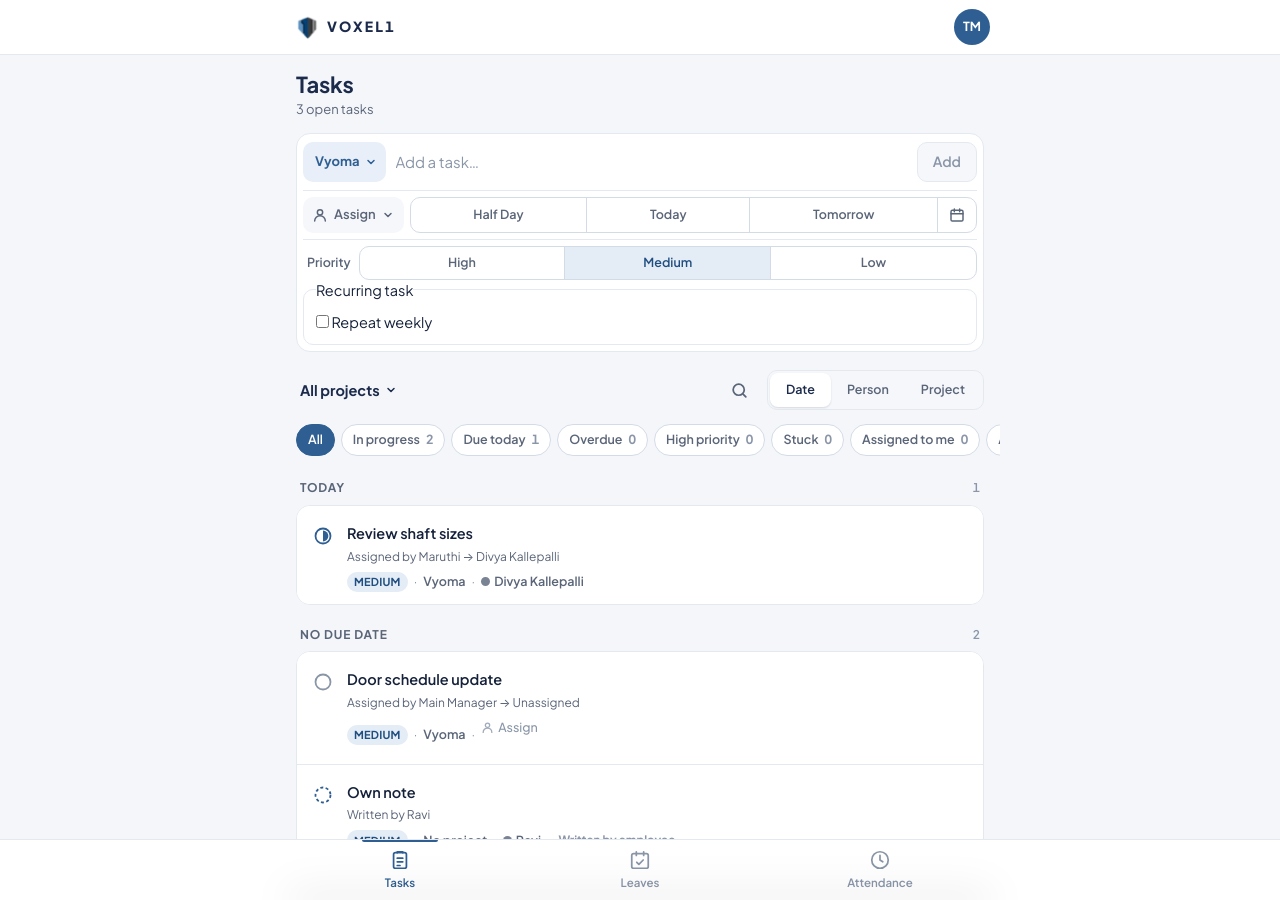
Scenario: manager app › finds shared tasks by the assigner name
Click the button named "Search tasks" at (739, 390), box [717,368,761,412]
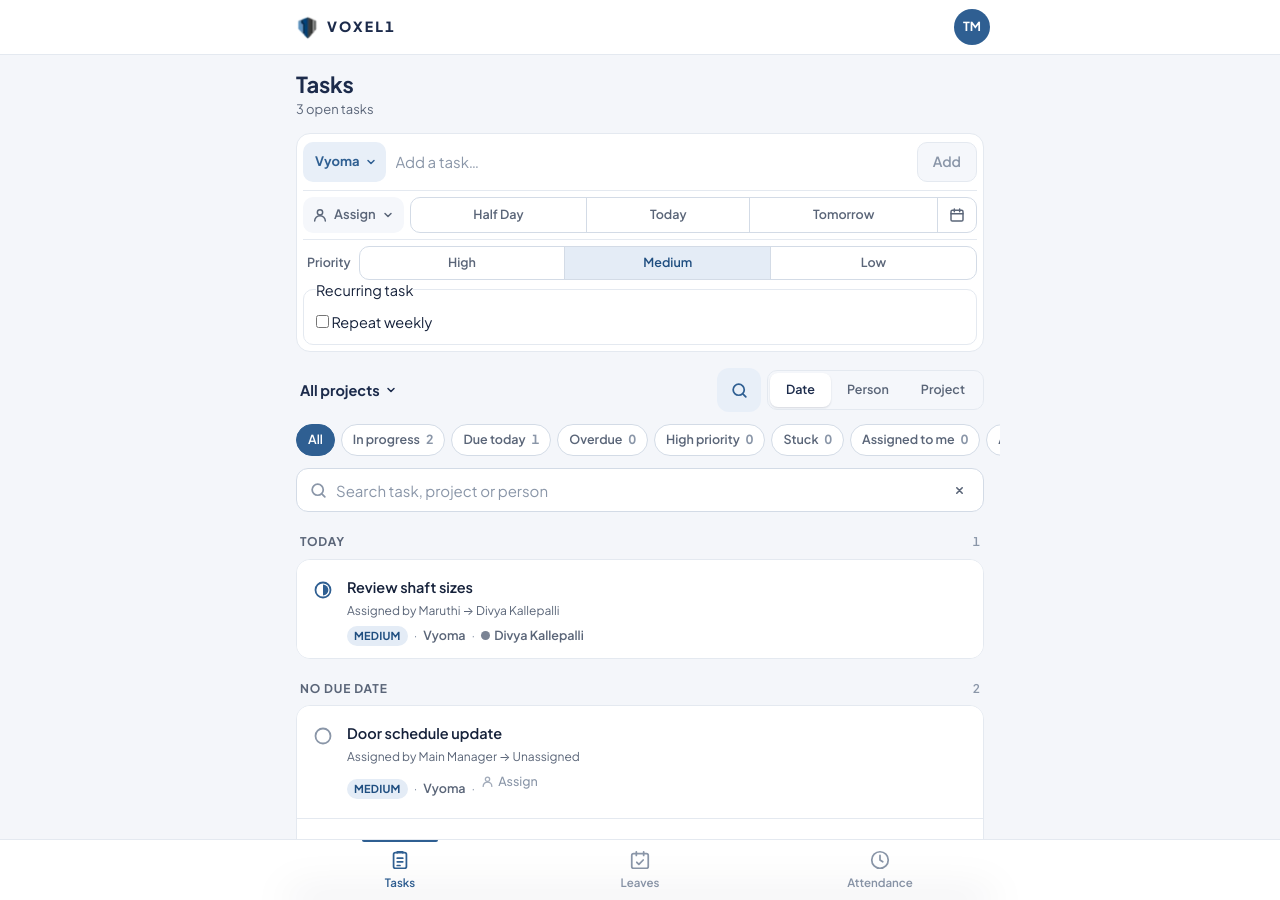
Type "Maruthi" into the search field named "Search tasks" at (634, 490), box [336,469,933,511]
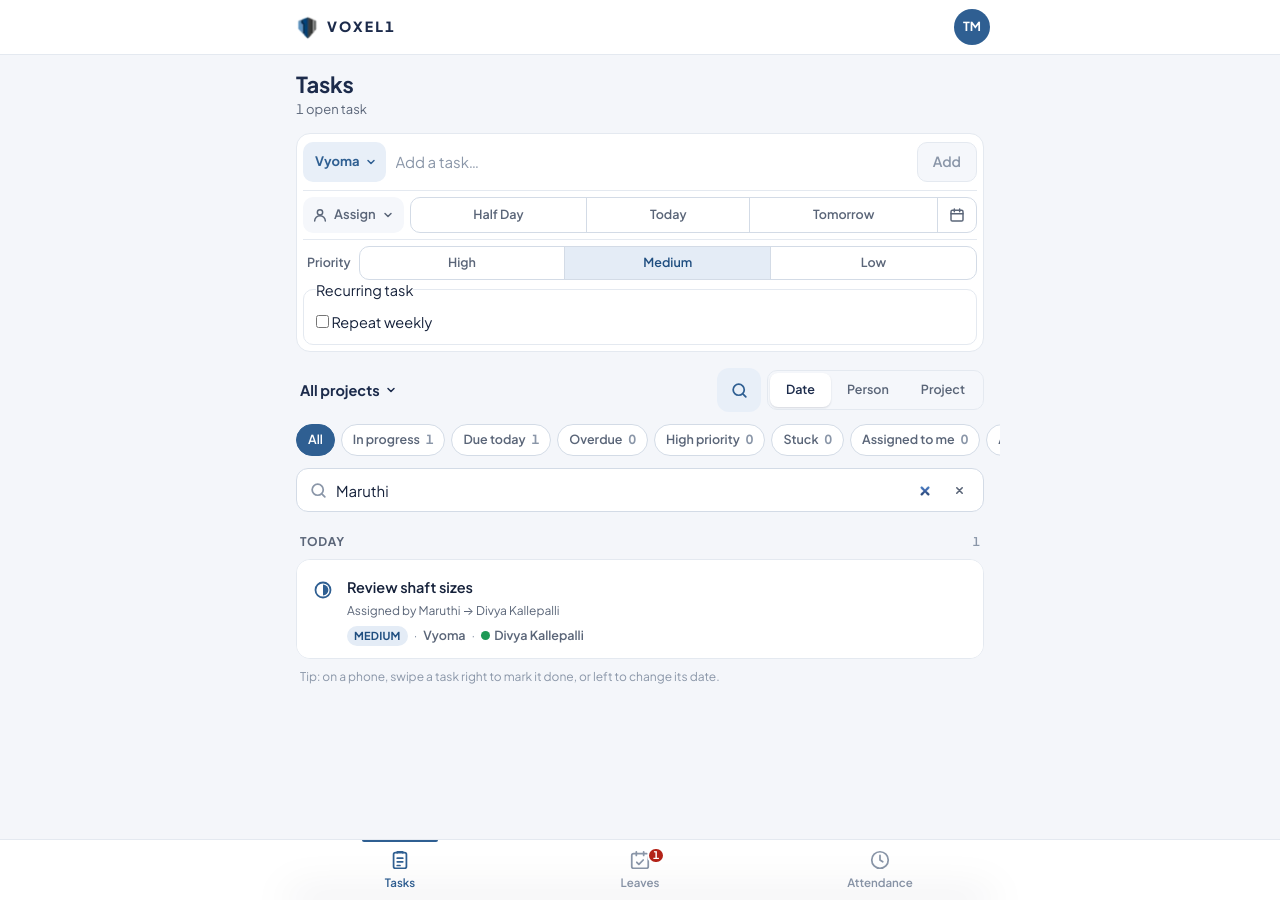
Expected: the button "Review shaft sizes" is shown, [347,578,971,598]
Expected: the button "Door schedule update" is gone
